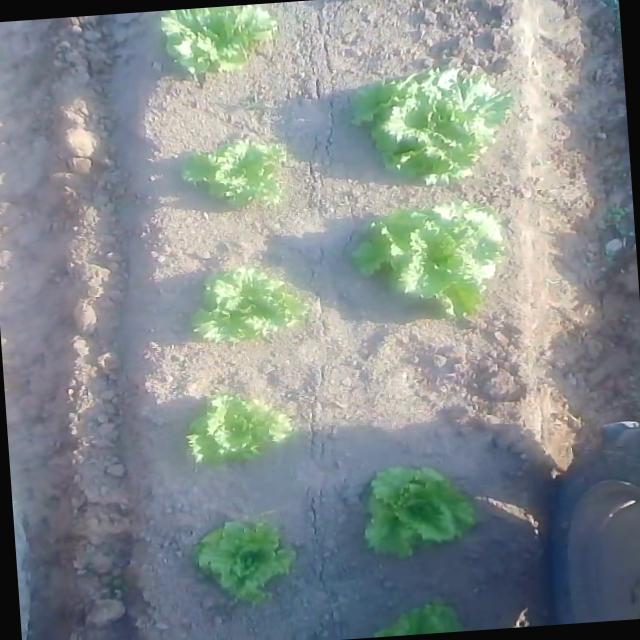Lettuce-Ready-to-Harvest: (350, 62, 519, 193), (348, 196, 508, 324), (359, 460, 482, 560), (186, 264, 312, 346), (192, 514, 300, 606), (184, 391, 296, 468), (177, 134, 286, 213)
